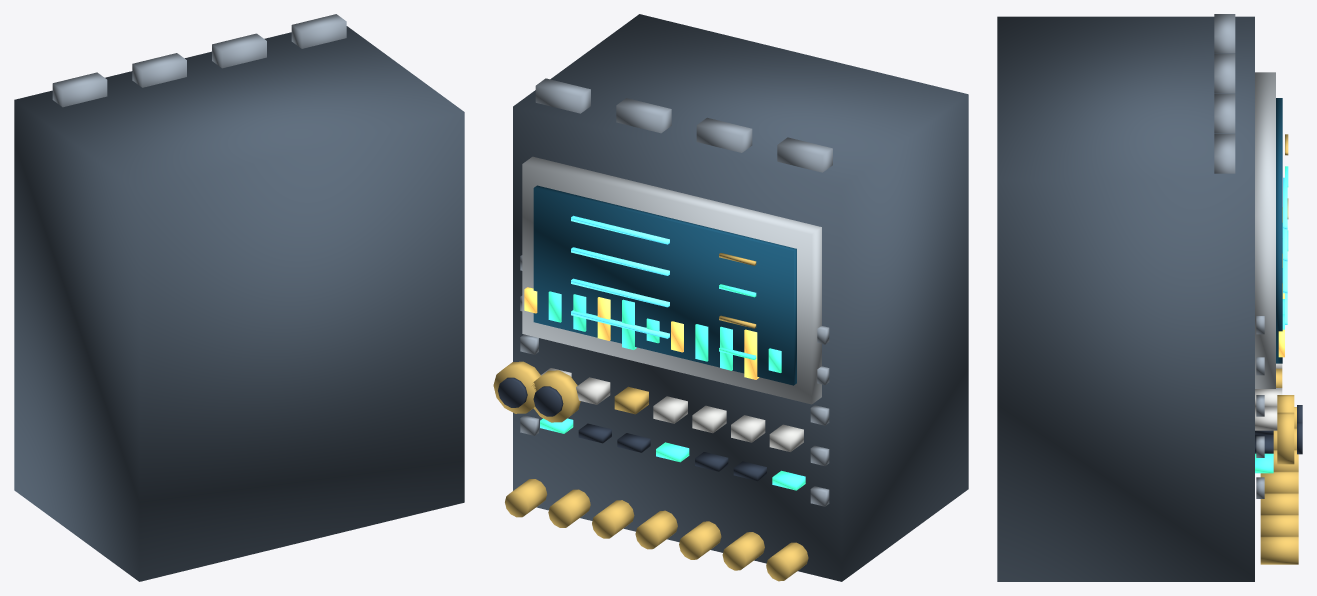
File: L87_36_MotorPhaseCurrentSensor_Fitted.fbx
3 renders of one model, left to right at view 1: azimuth 30°, elevation 25°; view 2: azimuth 150°, elevation 25°; view 3: azimuth 270°, elevation 25°, orthographic. The views are drawn at different scales.
Parts seen in each view (by area): view 1: L87_MotorPhaseCurrentSensor_Static__tint1A2430, L87_MotorPhaseCurrentSensor_Static__tint617387; view 2: L87_MotorPhaseCurrentSensor_Static__tint1A2430, L87_MotorPhaseCurrentSensor_Static__tint041F3B, L87_MotorPhaseCurrentSensor_Static__tintB0BFCC, L87_MotorPhaseCurrentSensor_Static__tintF5A62B, L87_MotorPhaseCurrentSensor_Static__tint617387, L87_MotorPhaseCurrentSensor_Static__tint0FE88A, L87_MotorPhaseCurrentSensor_Static__tintE3E6E0, L87_MotorPhaseCurrentSensor_Static__tint0A0F1A, L87_MotorPhaseCurrentSensor_Static__tint1CC7FF, L87_MotorPhaseCurrentSensor_Static__tintFF941F; view 3: L87_MotorPhaseCurrentSensor_Static__tint1A2430, L87_MotorPhaseCurrentSensor_Static__tintB0BFCC, L87_MotorPhaseCurrentSensor_Static__tintF5A62B, L87_MotorPhaseCurrentSensor_Static__tint617387, L87_MotorPhaseCurrentSensor_Static__tint041F3B, L87_MotorPhaseCurrentSensor_Static__tintE3E6E0, L87_MotorPhaseCurrentSensor_Static__tint1CC7FF, L87_MotorPhaseCurrentSensor_Static__tint0A0F1A, L87_MotorPhaseCurrentSensor_Static__tint0FE88A.
Part boxes in pixels (bbox=[...]): L87_MotorPhaseCurrentSensor_Static__tint1A2430: bbox=[14, 26, 464, 581]; L87_MotorPhaseCurrentSensor_Static__tint617387: bbox=[52, 14, 346, 107]; L87_MotorPhaseCurrentSensor_Static__tint1A2430: bbox=[513, 14, 968, 581]; L87_MotorPhaseCurrentSensor_Static__tint041F3B: bbox=[533, 185, 796, 385]; L87_MotorPhaseCurrentSensor_Static__tintB0BFCC: bbox=[522, 156, 821, 404]; L87_MotorPhaseCurrentSensor_Static__tintF5A62B: bbox=[493, 253, 808, 581]; L87_MotorPhaseCurrentSensor_Static__tint617387: bbox=[520, 78, 832, 506]; L87_MotorPhaseCurrentSensor_Static__tint0FE88A: bbox=[540, 284, 805, 490]; L87_MotorPhaseCurrentSensor_Static__tintE3E6E0: bbox=[541, 368, 803, 451]; L87_MotorPhaseCurrentSensor_Static__tint0A0F1A: bbox=[498, 377, 766, 481]; L87_MotorPhaseCurrentSensor_Static__tint1CC7FF: bbox=[571, 215, 669, 338]; L87_MotorPhaseCurrentSensor_Static__tintFF941F: bbox=[524, 287, 759, 379]; L87_MotorPhaseCurrentSensor_Static__tint1A2430: bbox=[997, 16, 1254, 581]; L87_MotorPhaseCurrentSensor_Static__tintB0BFCC: bbox=[1255, 72, 1275, 388]; L87_MotorPhaseCurrentSensor_Static__tintF5A62B: bbox=[1260, 134, 1298, 564]; L87_MotorPhaseCurrentSensor_Static__tint617387: bbox=[1214, 14, 1264, 498]; L87_MotorPhaseCurrentSensor_Static__tint041F3B: bbox=[1276, 98, 1282, 363]; L87_MotorPhaseCurrentSensor_Static__tintE3E6E0: bbox=[1255, 363, 1282, 430]; L87_MotorPhaseCurrentSensor_Static__tint1CC7FF: bbox=[1283, 177, 1287, 324]; L87_MotorPhaseCurrentSensor_Static__tint0A0F1A: bbox=[1255, 405, 1302, 454]; L87_MotorPhaseCurrentSensor_Static__tint0FE88A: bbox=[1255, 166, 1288, 473].
Bounding box in the file's own units: 9.31 × 11.13 × 7.34.
